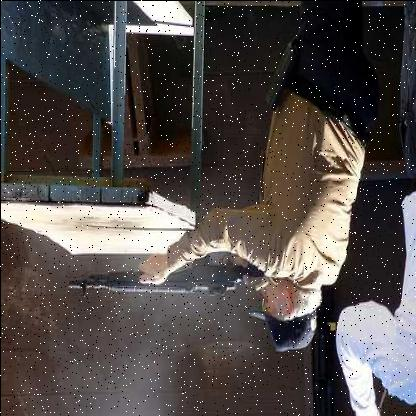rifle: (62, 211, 266, 315)
